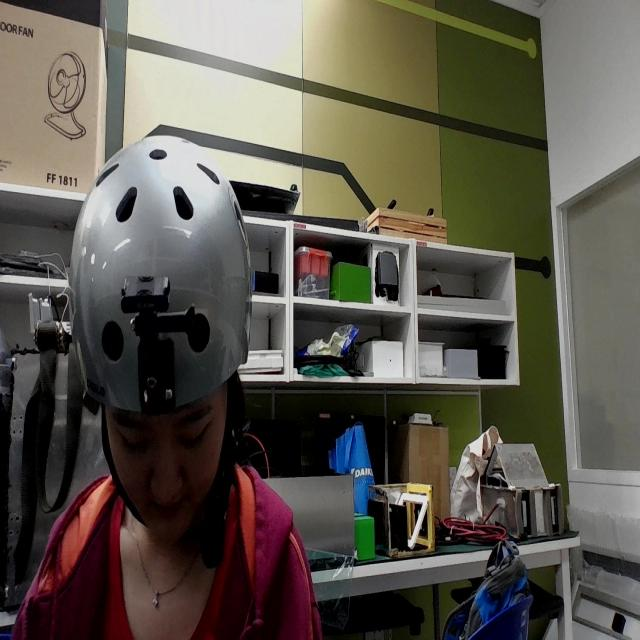With Helmet: (54, 104, 271, 589)
